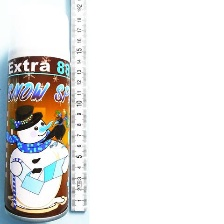aerosol_cans: (1, 1, 76, 223)
